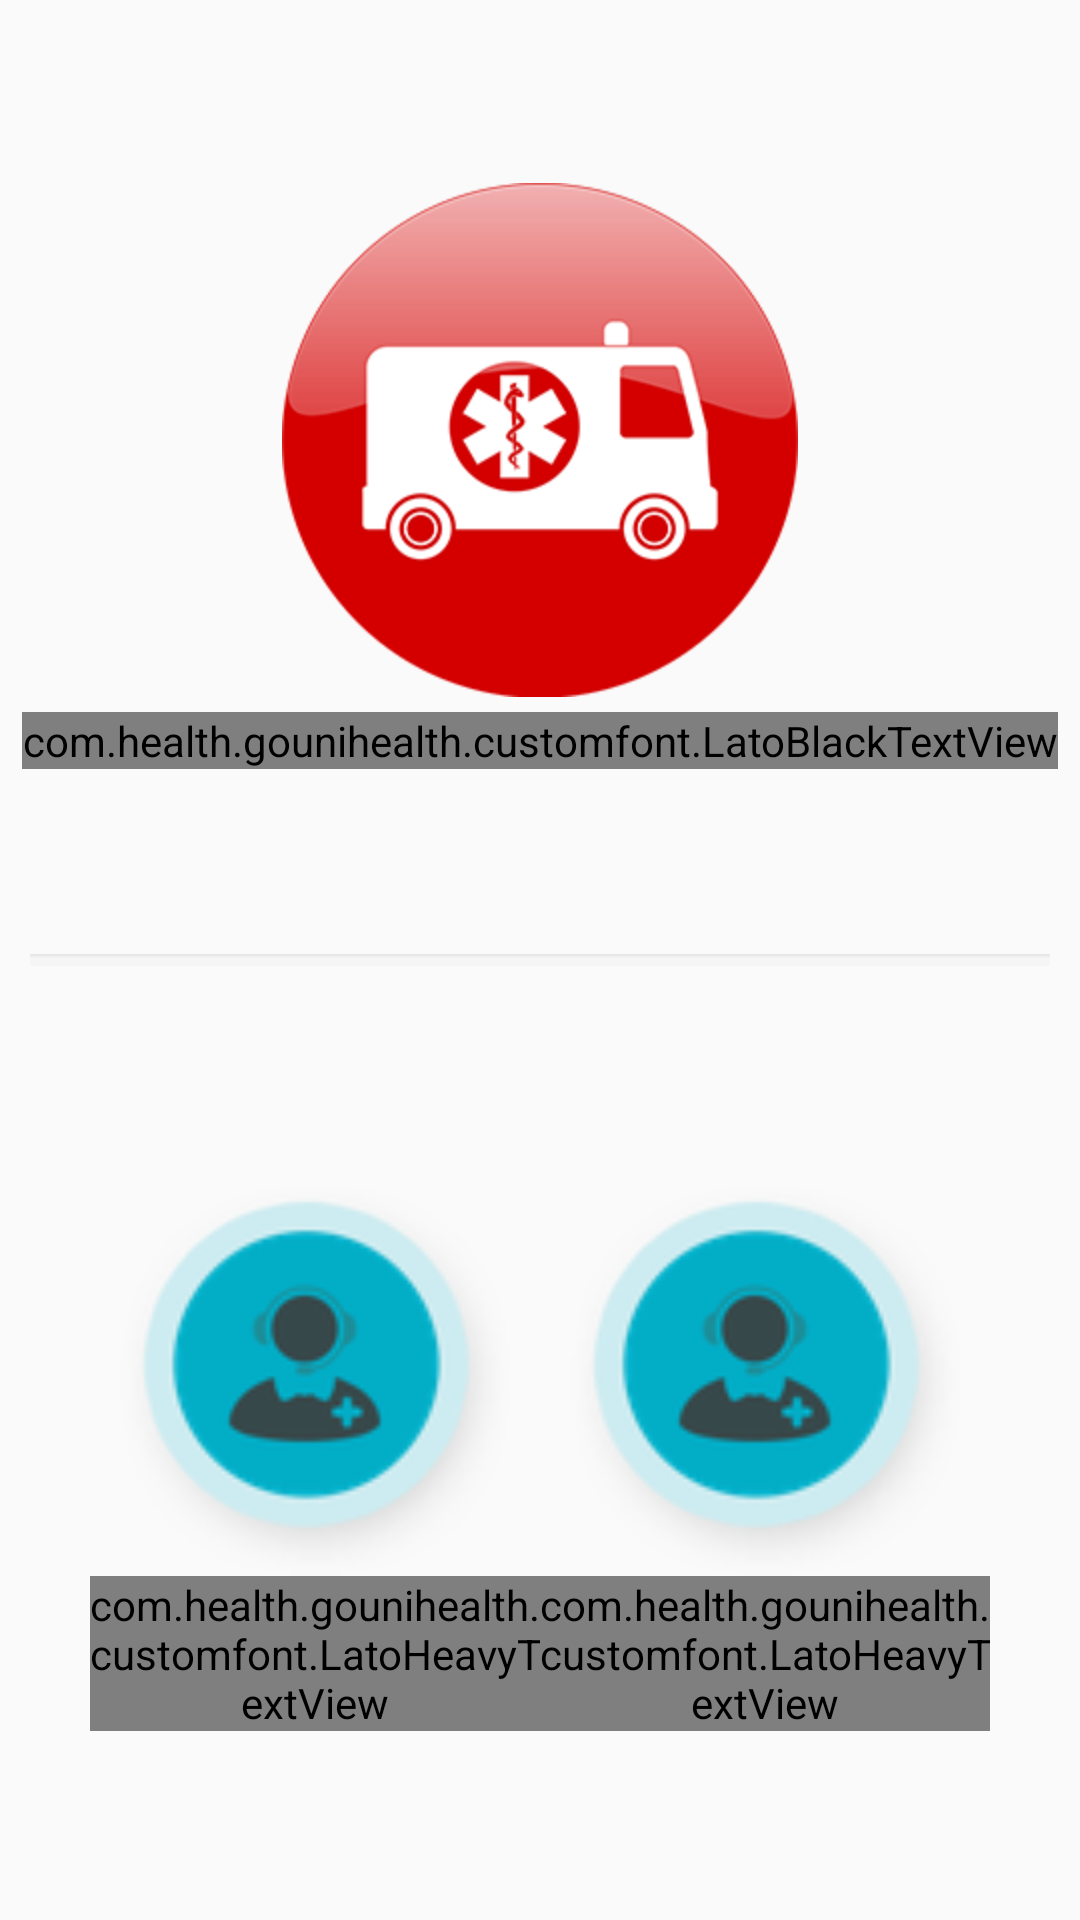

Screen size 1080x1920. Icon name, then its box in pixels as (x1, y1, x2, y2):
icu enquiry: (144, 1202, 470, 1529), (594, 1202, 920, 1529)
